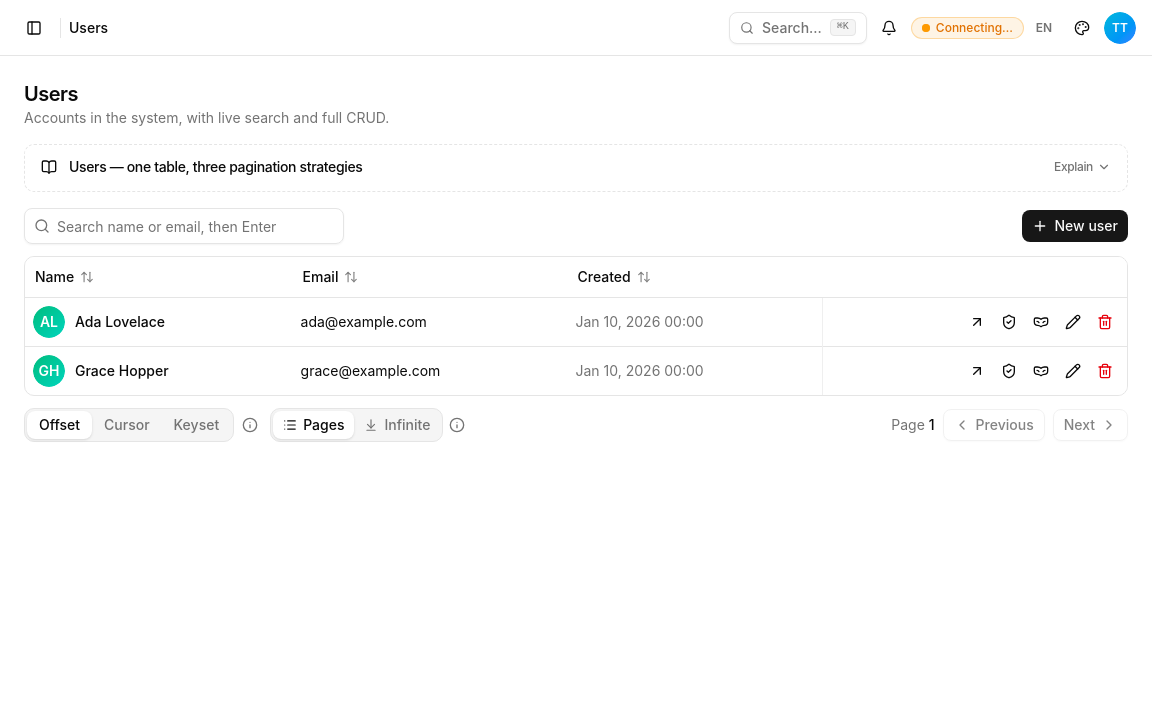
Test: admin users table › assigns and revokes roles in the roles dialog
Expected: the heading "Users" is shown, [24,82,78,106]
Click the button named "Roles of ada@example.com" at (1009, 322), box [995,308,1023,336]
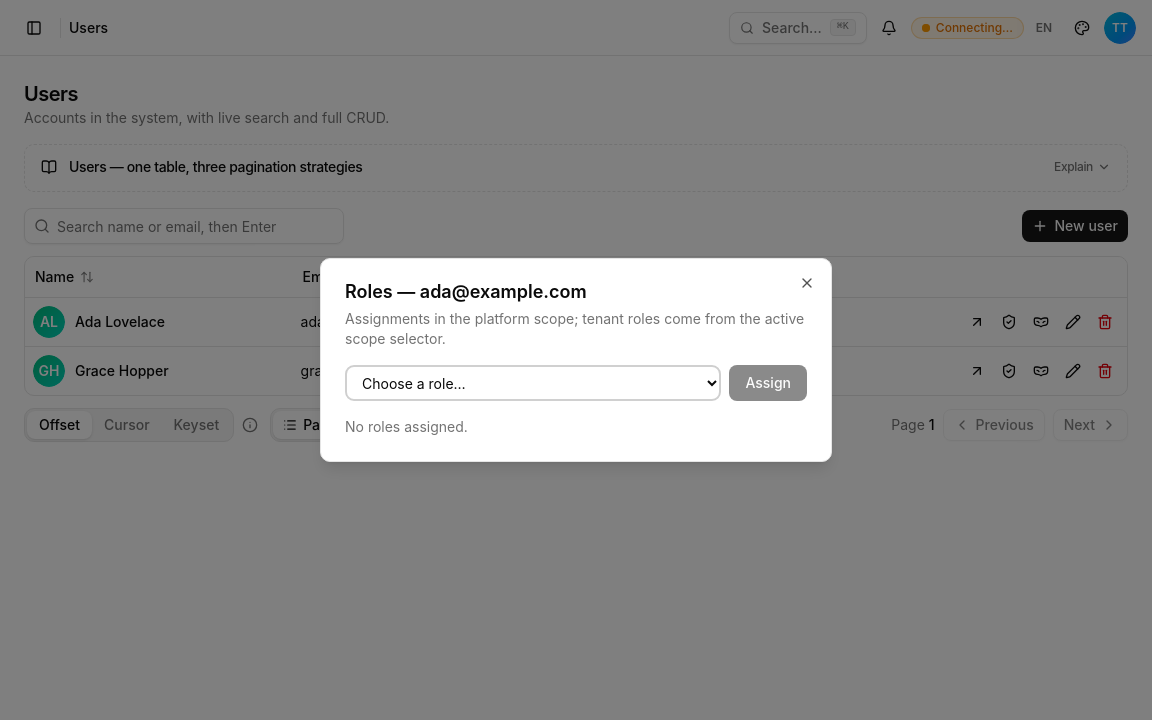
Expected: the heading "Roles — ada@example.com" is shown, [345,281,587,302]
Expected: the text "No roles assigned." is shown, [345,418,468,435]
Select "Requester (requester)" in the dropdown at (533, 383), box [345,365,721,401]
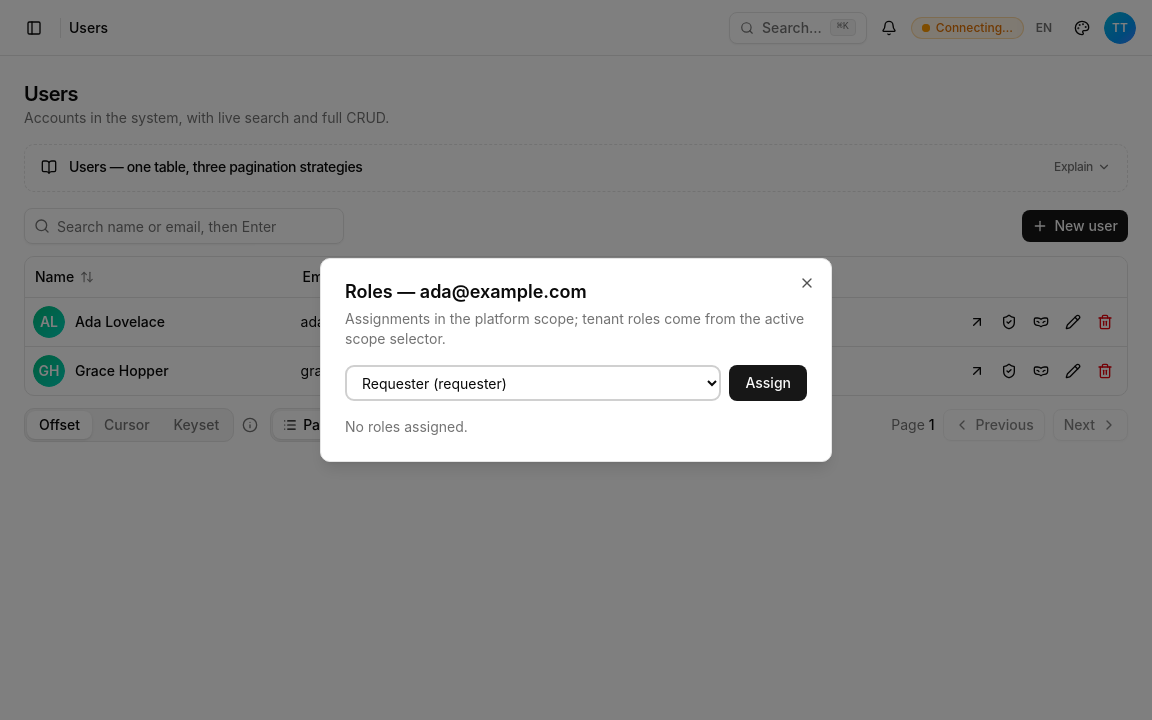
Click the button "Assign" at (768, 383), box [729,365,807,401]
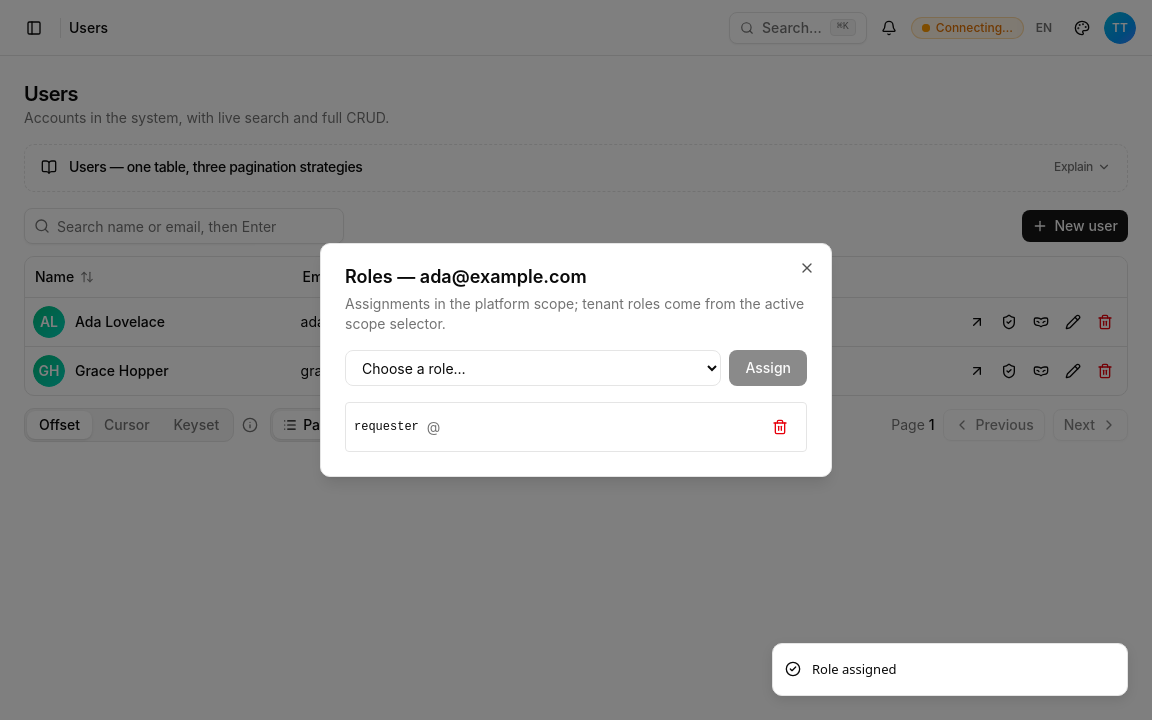
Expected: the text "Role assigned" is shown, [812,660,896,679]
Expected: the text "requester" is shown, [354,419,419,435]
Click the button named "Revoke requester" at (780, 427), box [762,409,798,445]
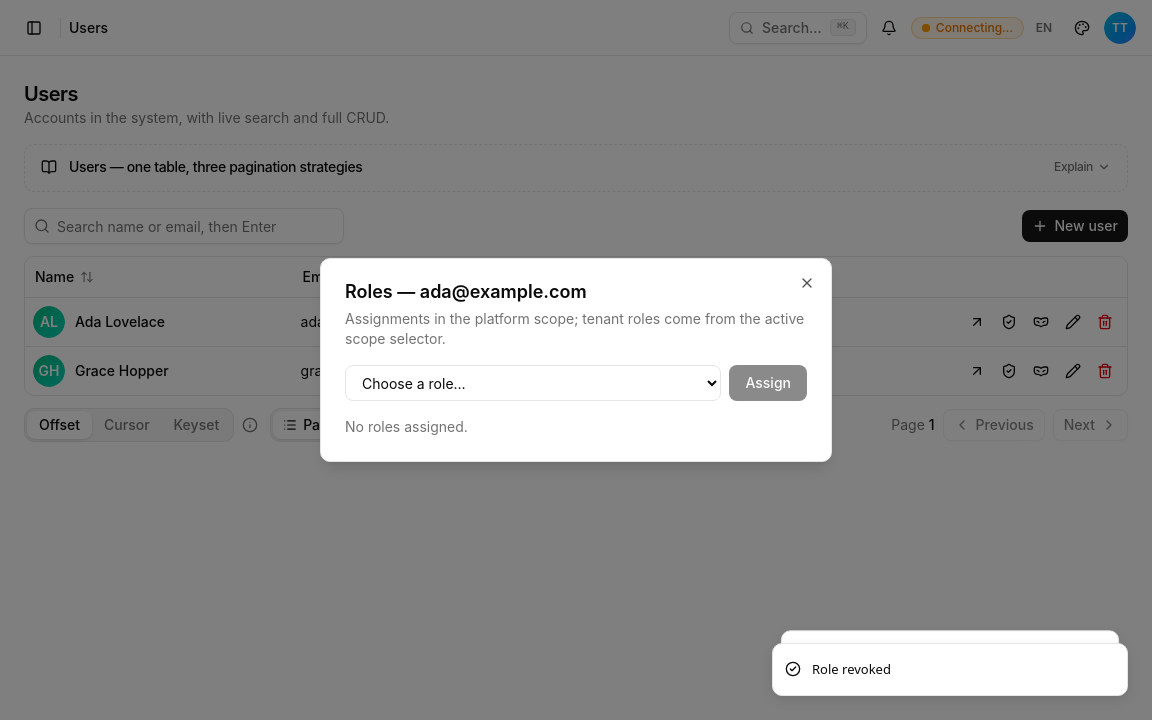
Expected: the text "Role revoked" is shown, [812,660,891,679]
